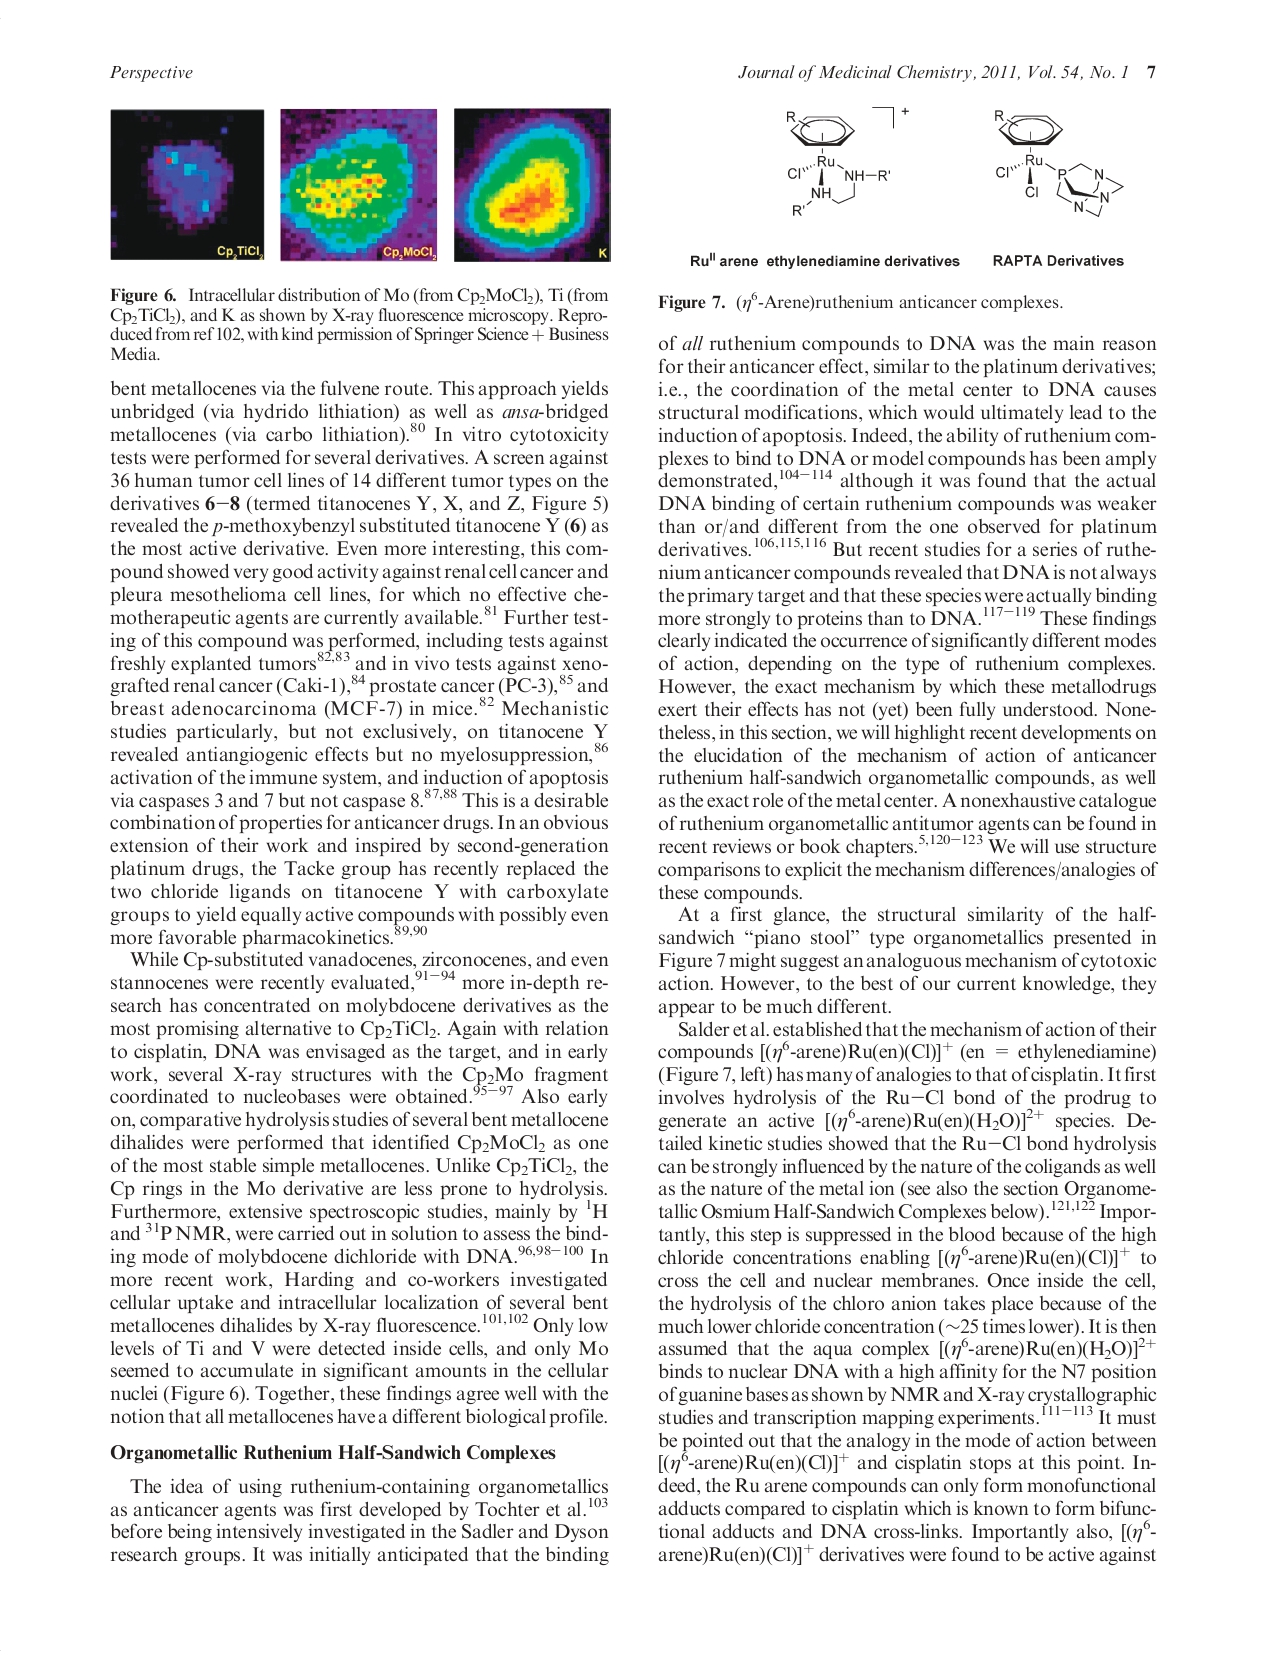exist_molecular: (984, 102, 1128, 218), (773, 102, 892, 218)
